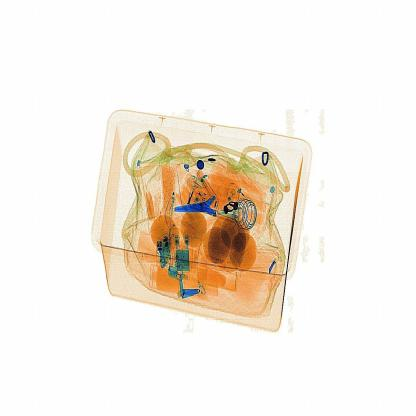gun: (171, 184, 240, 239)
